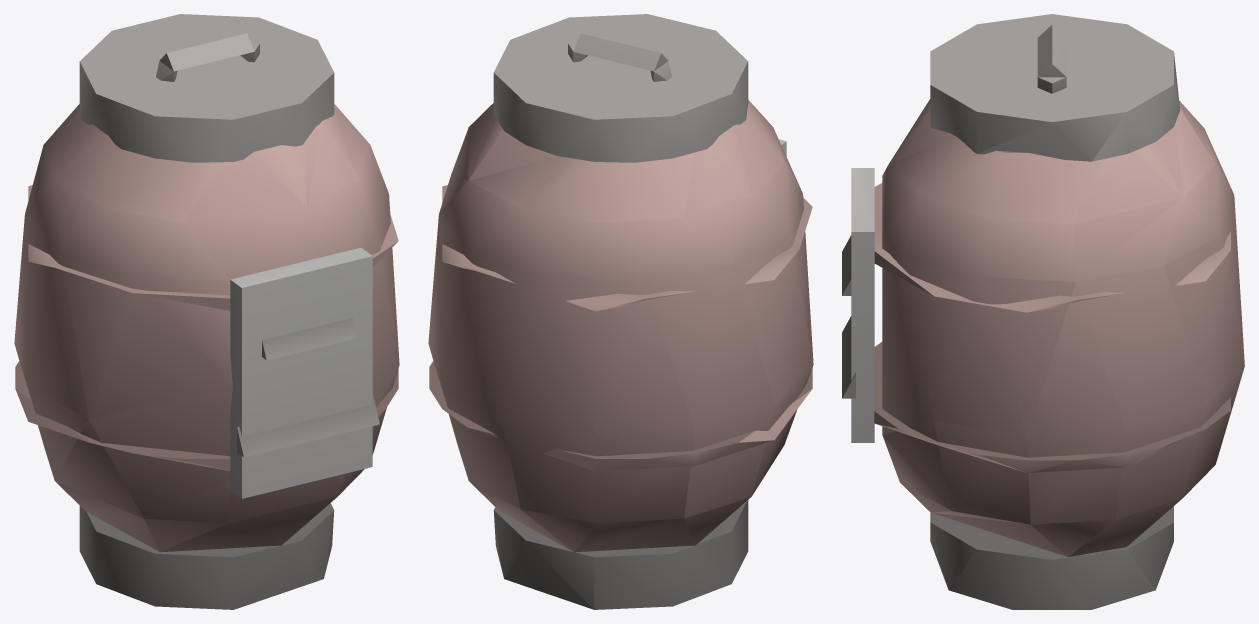
The model's file is lantern.lod1.glb.
3 views of the same model, side by side, from view 1: azimuth 30°, elevation 25°; view 2: azimuth 150°, elevation 25°; view 3: azimuth 270°, elevation 25° (orthographic).
Size of the model in its own units: 0.3311 by 0.4875 by 0.3461.
